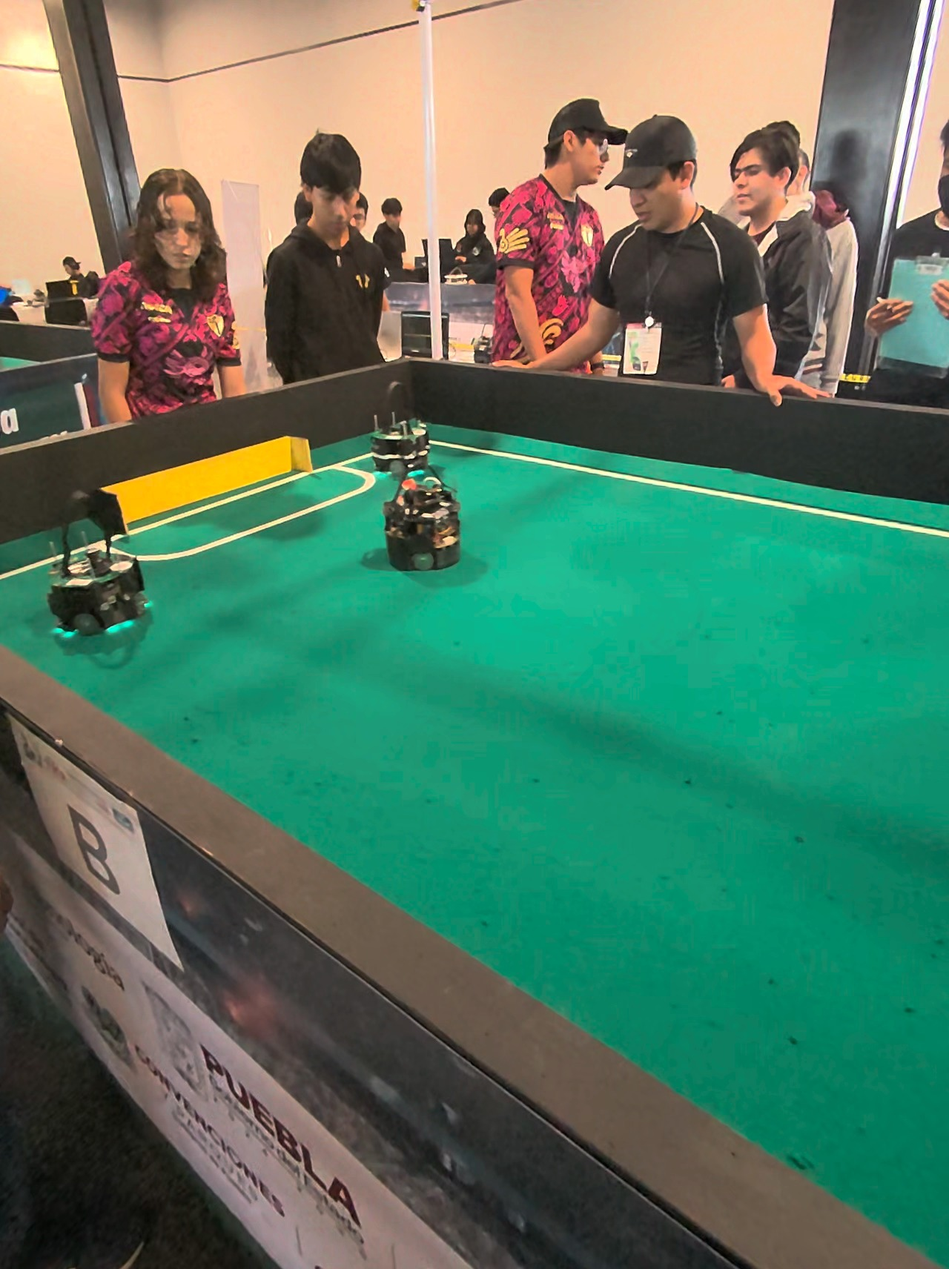Robot: (41, 513, 158, 660), (381, 463, 465, 577), (370, 367, 434, 475)
